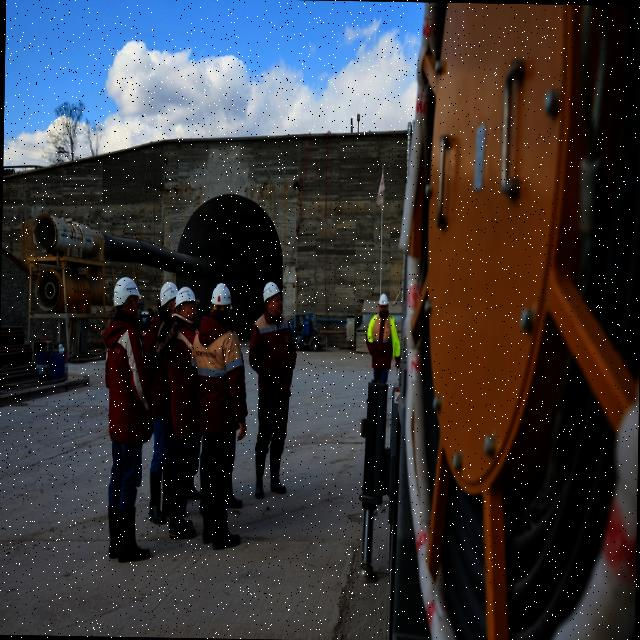Helmet: (111, 276, 142, 309), (209, 283, 234, 315), (175, 286, 201, 310), (159, 282, 180, 309), (264, 284, 285, 308), (380, 294, 389, 314)
Jacket: (198, 320, 241, 438), (259, 313, 293, 400)
NoJacket: (105, 318, 144, 442), (170, 325, 197, 435)
